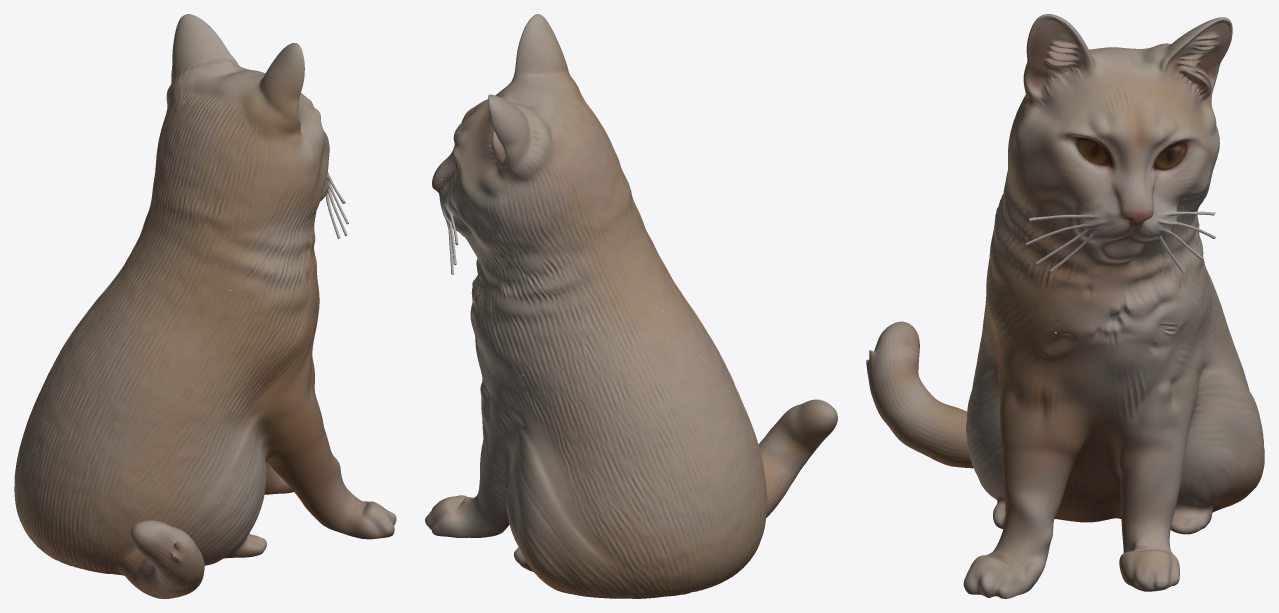
The model's file is kaori.glb.
The picture shows the model from 3 angles, left to right: view 1: azimuth 30°, elevation 25°; view 2: azimuth 150°, elevation 25°; view 3: azimuth 270°, elevation 25°; orthographic projection. The views are drawn at different scales.
Parts seen in each view (by area): view 1: tripo_node_70046ebe-a095-4383-b55e-8f61d1613672; view 2: tripo_node_70046ebe-a095-4383-b55e-8f61d1613672; view 3: tripo_node_70046ebe-a095-4383-b55e-8f61d1613672.
Boxes of the visible parts, x1,y1,x2,y2 form: tripo_node_70046ebe-a095-4383-b55e-8f61d1613672: [14, 14, 396, 598]; tripo_node_70046ebe-a095-4383-b55e-8f61d1613672: [425, 14, 837, 598]; tripo_node_70046ebe-a095-4383-b55e-8f61d1613672: [866, 14, 1264, 598].
Size of the model in its own units: 0.6766 by 0.9998 by 0.6614.
Materials: 1 (1 with a texture image).
